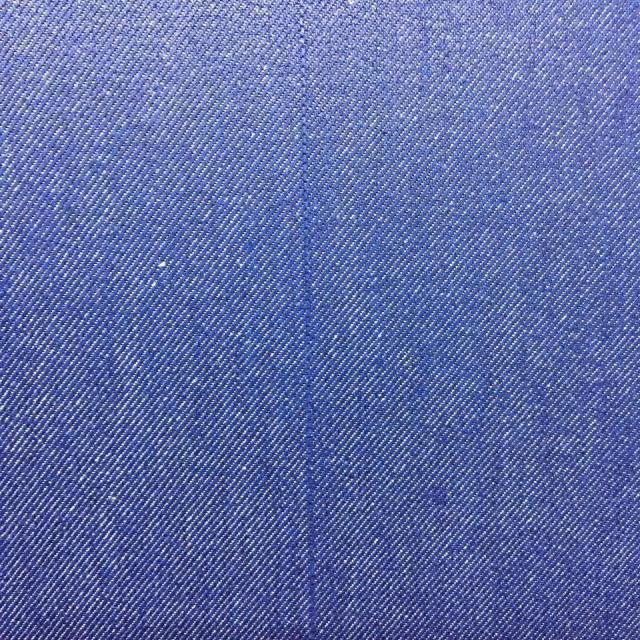Line: (293, 0, 320, 639)
